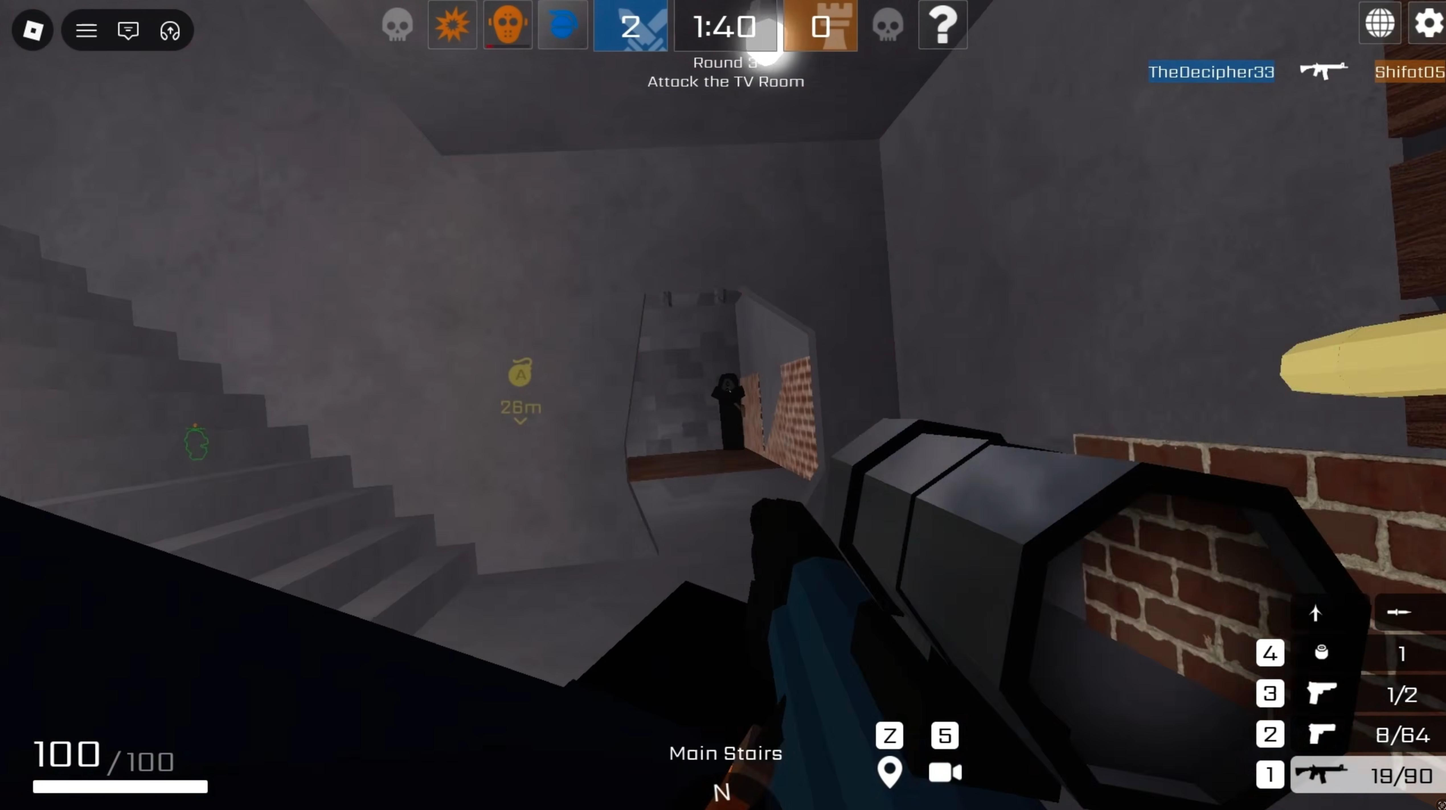enemy: (703, 369, 757, 458)
